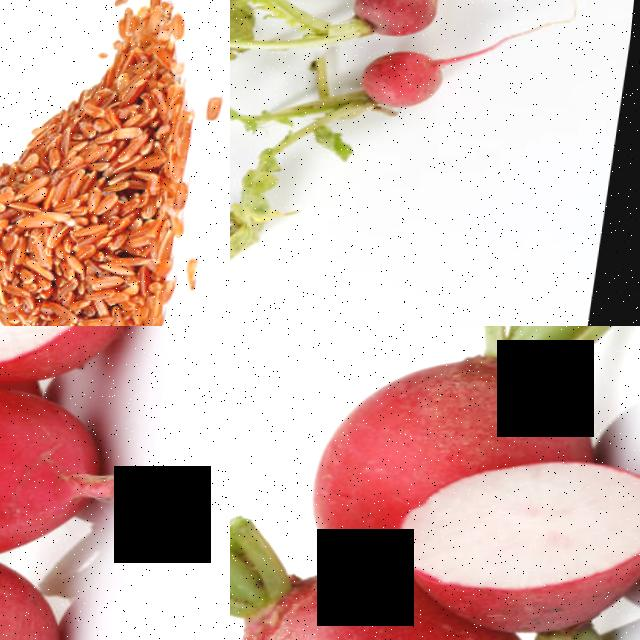radishes: (282, 326, 640, 599), (0, 326, 155, 640), (230, 571, 556, 640), (278, 41, 458, 122), (281, 0, 453, 48)
red rice: (0, 0, 230, 326)
